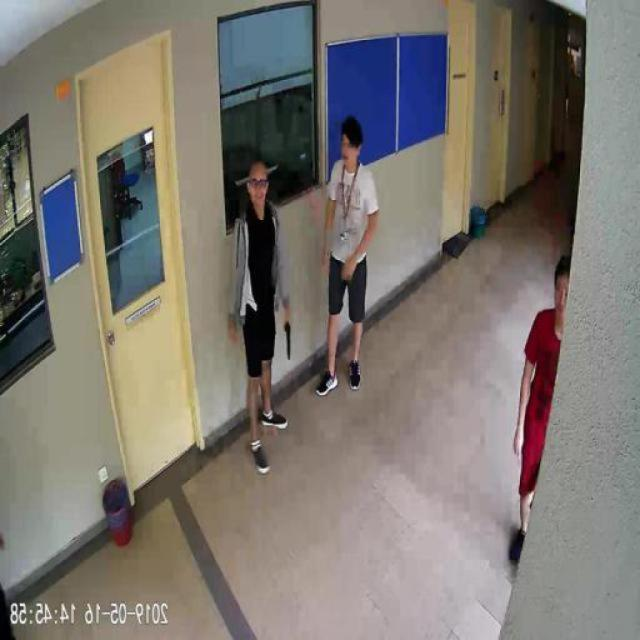pistol: (285, 315, 293, 359)
